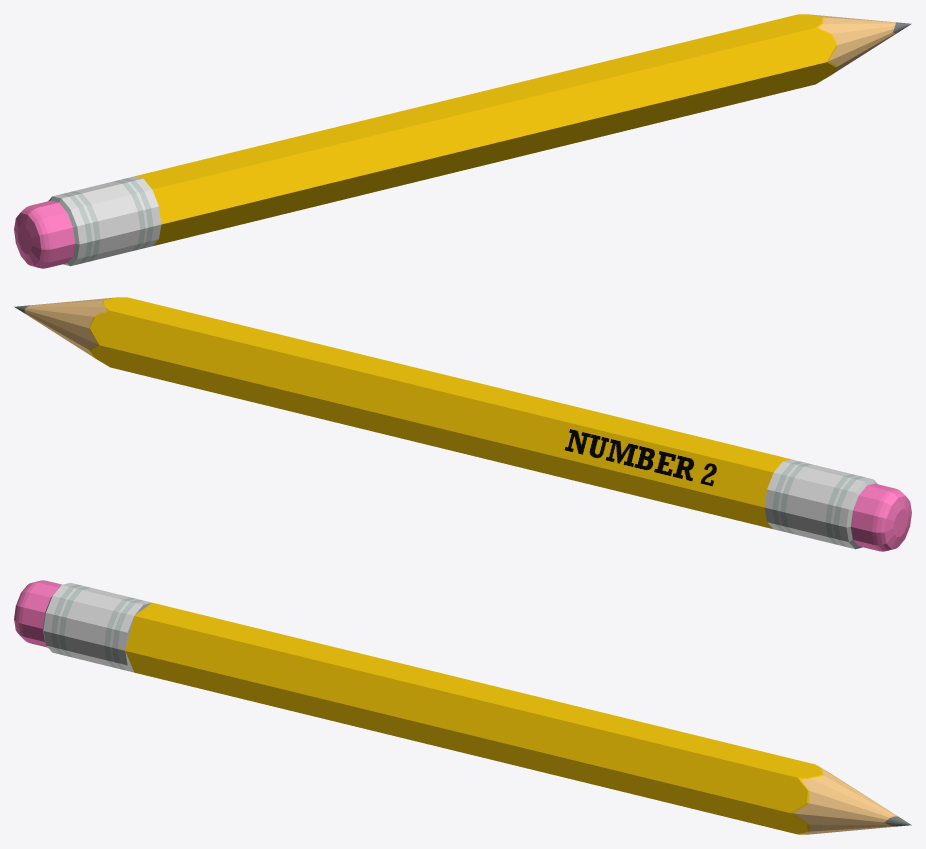
Rendered from Pencil.glb.
The picture shows the model from 3 angles, top to bottom: view 1: azimuth 30°, elevation 25°; view 2: azimuth 150°, elevation 25°; view 3: azimuth 330°, elevation 25°; orthographic projection.
Visible parts, largest first — view 1: Pencil; view 2: Pencil; view 3: Pencil.
Boxes of the visible parts, x1,y1,x2,y2 form: Pencil: (14,14,911,268); Pencil: (14,297,911,551); Pencil: (14,580,911,834).
Size of the model in its own units: 4.53 by 0.32 by 0.32.
Materials: 1 (1 with a texture image).
